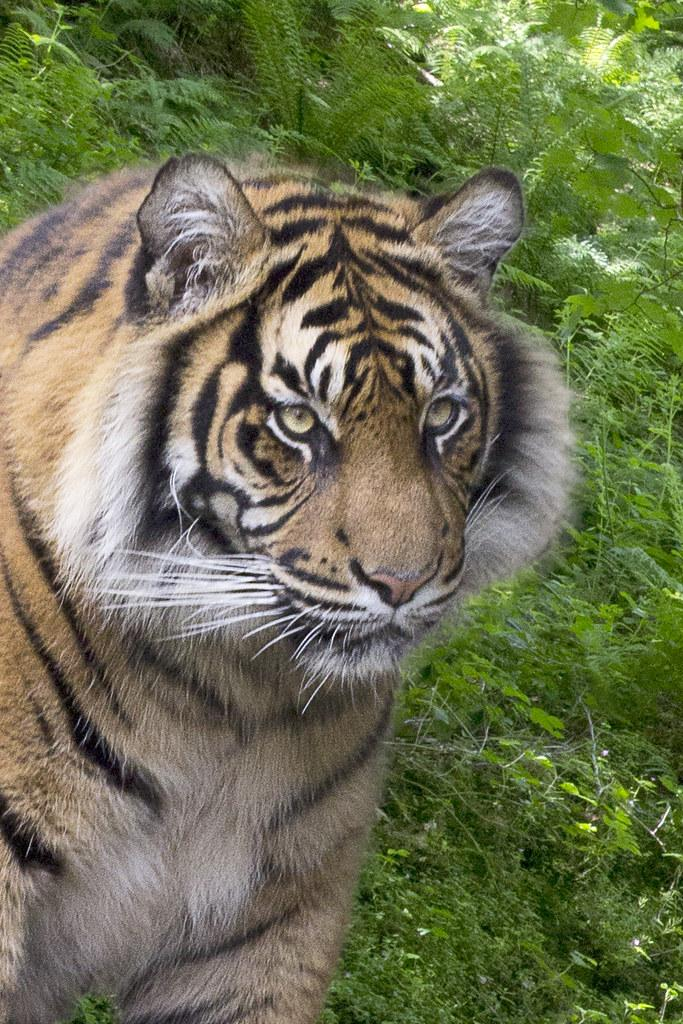tiger: (1, 149, 587, 1023)
